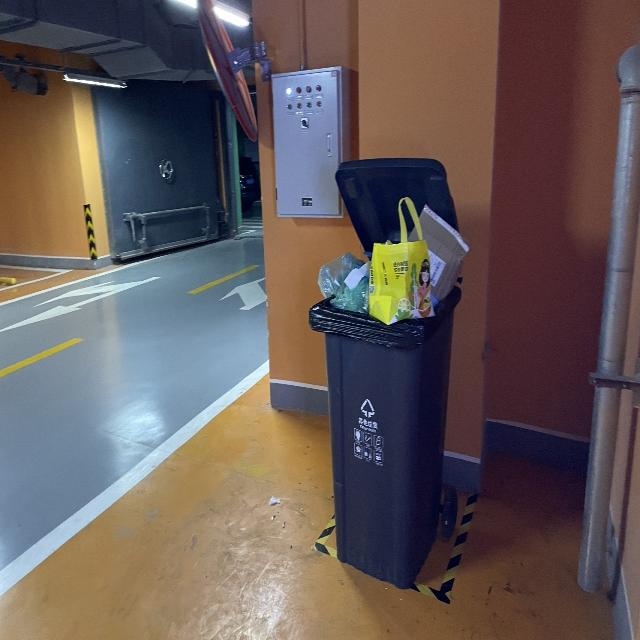overflow: (308, 157, 468, 588)
